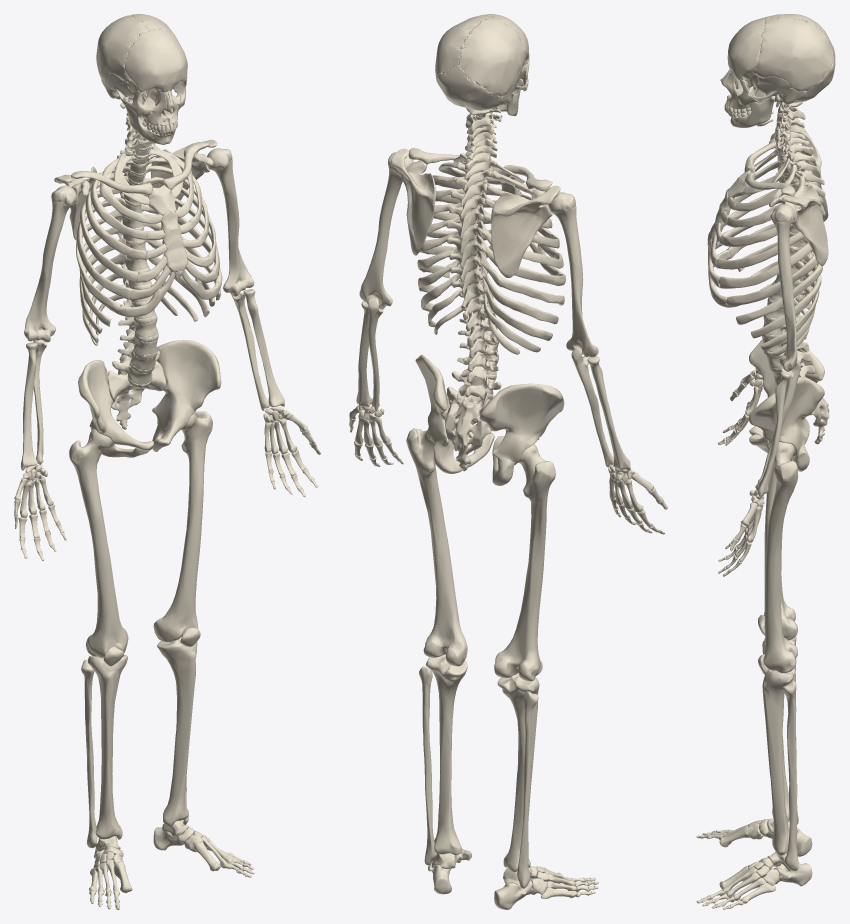
The model's file is skeleton.glb.
3 views of the same model, side by side, from view 1: azimuth 30°, elevation 25°; view 2: azimuth 150°, elevation 25°; view 3: azimuth 270°, elevation 25° (orthographic). The views are drawn at different scales.
Parts seen in each view (by area): view 1: femur-r, femur-l, hip-bone-l, tibia-l, frontal-bone, tibia-r, hip-bone-r, humerus-r, humerus-l, costal-cartilages-r, parietal-bone-r, sternum (+25 smaller); view 2: femur-r, femur-l, hip-bone-r, parietal-bone-r, scapula-r, tibia-l, tibia-r, hip-bone-l, humerus-r, scapula-l, sacrum, humerus-l (+19 smaller); view 3: femur-l, parietal-bone-l, tibia-l, hip-bone-l, humerus-l, scapula-l, fibula-l, frontal-bone, hip-bone-r, tarsal-bones-l, metatarsal-bones-l, femur-r (+31 smaller).
Boxes of the visible parts, x1,y1,x2,y2 form: femur-r: (69, 428, 128, 657); femur-l: (153, 411, 212, 642); hip-bone-l: (152, 340, 221, 451); tibia-l: (157, 636, 197, 826); frontal-bone: (125, 28, 187, 93); tibia-r: (88, 654, 127, 839); hip-bone-r: (78, 360, 153, 457); humerus-r: (24, 185, 76, 342); humerus-l: (207, 148, 254, 296); costal-cartilages-r: (117, 193, 175, 316); parietal-bone-r: (96, 15, 149, 81); sternum: (148, 185, 188, 279); femur-r: (494, 444, 555, 681); femur-l: (406, 428, 467, 666); hip-bone-r: (479, 383, 564, 485); parietal-bone-r: (458, 16, 526, 96); scapula-r: (491, 185, 560, 277); tibia-l: (425, 654, 467, 854); tibia-r: (497, 673, 539, 871); hip-bone-l: (415, 354, 494, 473); humerus-r: (549, 192, 598, 357); scapula-l: (391, 148, 435, 255); sacrum: (445, 387, 491, 471); humerus-l: (359, 152, 413, 309); femur-l: (763, 442, 798, 672); parietal-bone-l: (754, 17, 833, 91); tibia-l: (762, 668, 794, 855); hip-bone-l: (749, 377, 824, 471); humerus-l: (770, 204, 797, 371); scapula-l: (769, 184, 828, 266); fibula-l: (782, 680, 798, 870); frontal-bone: (727, 17, 765, 80); hip-bone-r: (749, 330, 824, 444); tarsal-bones-l: (748, 851, 812, 886); metatarsal-bones-l: (719, 865, 776, 903); femur-r: (763, 460, 797, 640).
Size of the model in its own units: 0.6478 by 1.71 by 0.2521.
